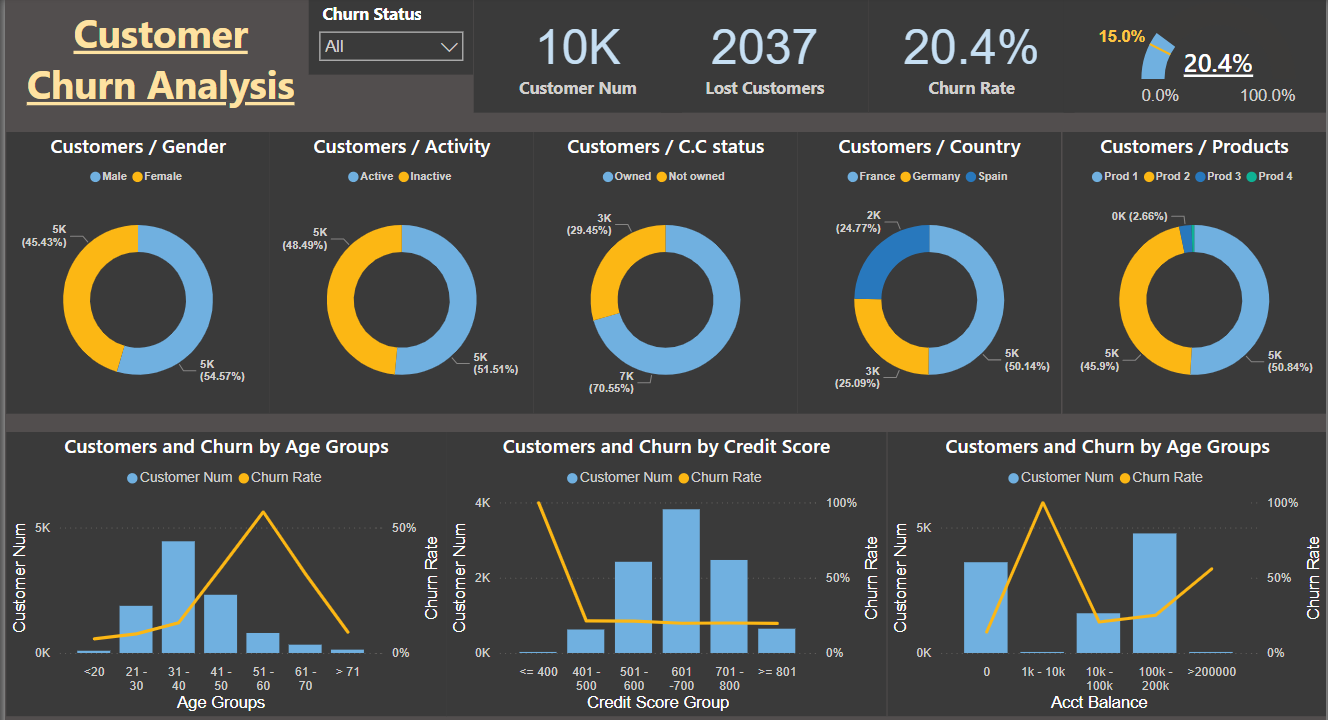

The page's visual inventory and layout, read from the dashboard file:
{"tool":"powerbi","page":{"name":"Page 1","canvas":[1280,720],"ordinal":0},"visuals":[{"type":"card","fields":{"Values":["Customer Data.Customer num"]},"box":[453.8,0,202,112.2],"z":0},{"type":"card","fields":{"Values":["Customer Data.Lost cx"]},"box":[635.8,0,200.7,112.2],"z":1000},{"type":"card","fields":{"Values":["Customer Data.Churn Rate"]},"box":[836.6,0,199.5,112.2],"z":2000},{"type":"donutChart","title":"Customers / Gender","fields":{"Y":["Customer Data.Customer Num"],"Category":["Customer Data.Gender"]},"box":[1.2,131.2,255.6,273],"z":3000},{"type":"donutChart","title":"Customers / Activity","fields":{"Y":["Customer Data.Customer Num"],"Category":["Customer Data.Activity Status"]},"box":[256.8,131.2,255.6,273],"z":4000},{"type":"donutChart","title":"Customers / C.C status","fields":{"Y":["Customer Data.Customer Num"],"Category":["Customer Data.Credit Card Status"]},"box":[512.4,131.2,255.6,273],"z":5000},{"type":"donutChart","title":"Customers / Country","fields":{"Y":["Customer Data.Customer Num"],"Category":["Customer Data.Country"]},"box":[768,131.2,255.6,273],"z":6000},{"type":"donutChart","title":"Customers / Products","fields":{"Y":["Customer Data.Customer Num"],"Category":["Customer Data.Prod"]},"box":[1024.4,131.2,255.6,273],"z":7000},{"type":"lineStackedColumnComboChart","title":"Customers and Churn by Age Groups","fields":{"Category":["Age Groups.Age Groups"],"Y":["Customer Data.Customer Num"],"Y2":["Customer Data.Churn Rate"]},"box":[1.2,421.4,426.4,275.5],"z":8000},{"type":"lineStackedColumnComboChart","title":"Customers and Churn by Credit Score","fields":{"Y":["Customer Data.Customer Num"],"Y2":["Customer Data.Churn Rate"],"Category":["Credit Score Groups.Credit Score Group"]},"box":[427.6,421.4,426.4,275.5],"z":9000},{"type":"lineStackedColumnComboChart","title":"Customers and Churn by Age Groups","fields":{"Y":["Customer Data.Customer Num"],"Y2":["Customer Data.Churn Rate"],"Category":["Account balance Group.Acct Balance"]},"box":[854.5,421.7,426.4,275.5],"z":10000},{"type":"slicer","title":"Churn Status","fields":{"Values":["Customer Data.Churn"]},"box":[294.2,0,159.6,74.8],"z":11000},{"type":"gauge","fields":{"Y":["Customer Data.Churn Rate"],"MinValue":["Sum(Gauge Metric.Min Churn Rate)"],"TargetValue":["Avg(Gauge Metric.Target Churn Rate)"]},"box":[1024.8,0,255.6,112.2],"z":12000},{"type":"textbox","box":[1.2,4.8,299,140.4],"z":13000}]}

Visuals, with their boxes on the page's 1280x720 design canvas (x1, y1, x2, y2). These are canvas units, not pixel positions in the 1328x720 screenshot, which may show the page scaled, cropped or inside an application window:
card - Customer Data.Customer num: Rect(454, 0, 656, 112)
card - Customer Data.Lost cx: Rect(636, 0, 836, 112)
card - Customer Data.Churn Rate: Rect(837, 0, 1036, 112)
"Customers / Gender" donutChart: Rect(1, 131, 257, 404)
"Customers / Activity" donutChart: Rect(257, 131, 512, 404)
"Customers / C.C status" donutChart: Rect(512, 131, 768, 404)
"Customers / Country" donutChart: Rect(768, 131, 1024, 404)
"Customers / Products" donutChart: Rect(1024, 131, 1280, 404)
"Customers and Churn by Age Groups" lineStackedColumnComboChart: Rect(1, 421, 428, 697)
"Customers and Churn by Credit Score" lineStackedColumnComboChart: Rect(428, 421, 854, 697)
"Customers and Churn by Age Groups" lineStackedColumnComboChart: Rect(854, 422, 1281, 697)
"Churn Status" slicer: Rect(294, 0, 454, 75)
gauge - Customer Data.Churn Rate x Sum(Gauge Metric.Min Churn Rate): Rect(1025, 0, 1280, 112)
textbox: Rect(1, 5, 300, 145)
